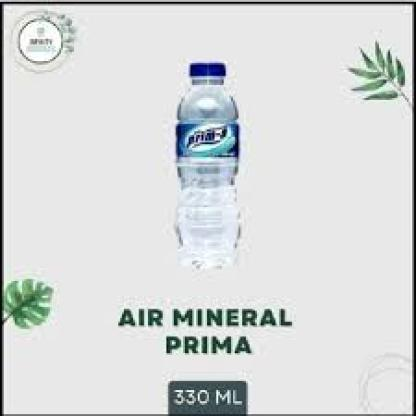Glass Bottle: (165, 56, 257, 268)
